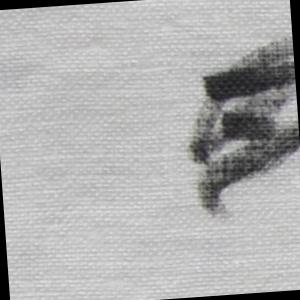Stain: (177, 30, 300, 231)
